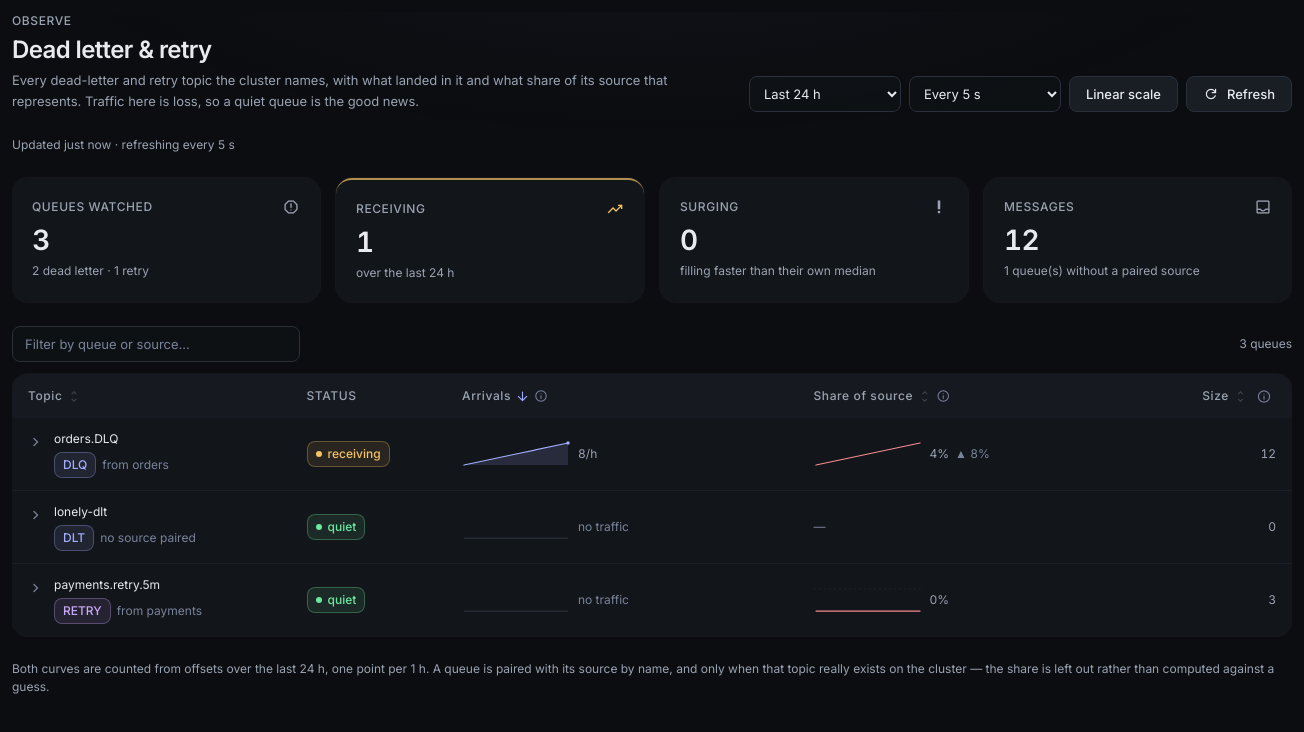
Scenario: DeadLetter › filters the table without narrowing what the KPI tiles count
The image size is (1304, 732).
Expected: the link "orders.DLQ" is shown, [54,431,118,446]
In the search field named "Filter queues": point(156, 344) [12,326,300,362], type "payments"
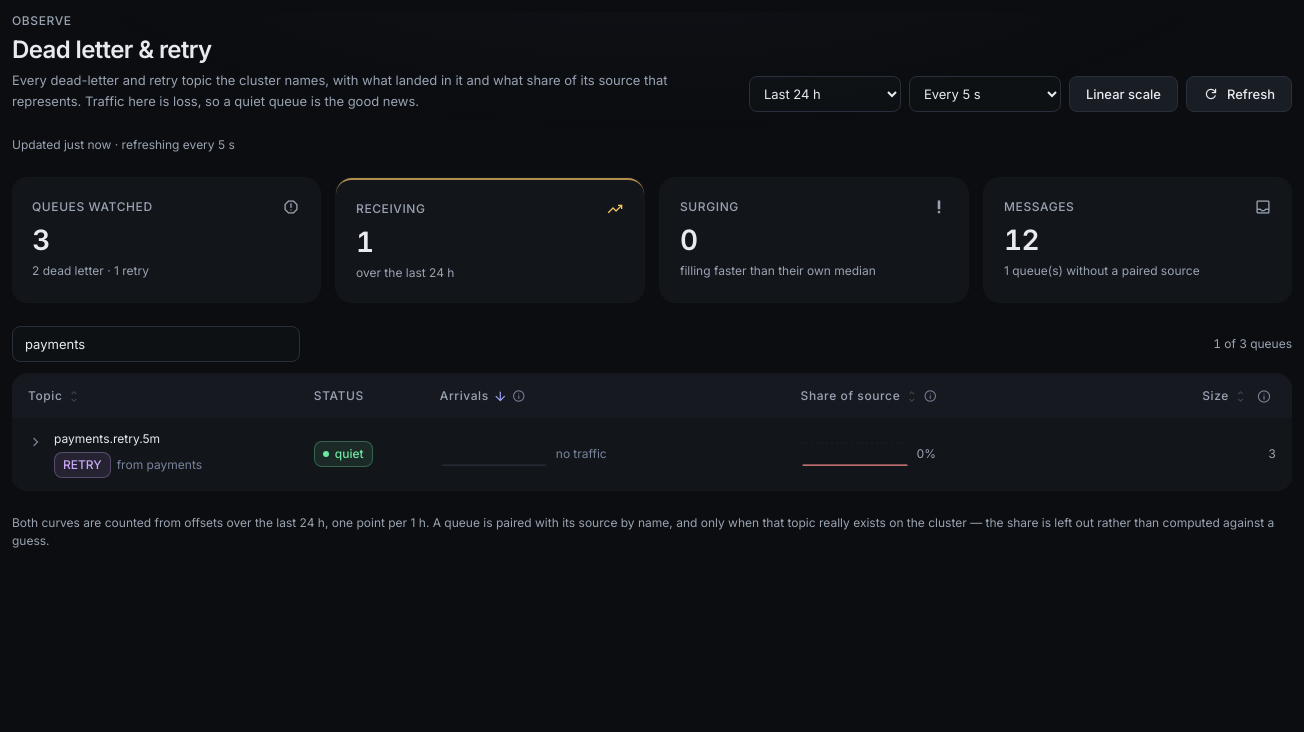
Expected: the link "payments.retry.5m" is shown, [54,431,160,446]
Expected: the link "orders.DLQ" is gone
Expected: the text "1 of 3 queues" is shown, [1213,335,1292,353]
